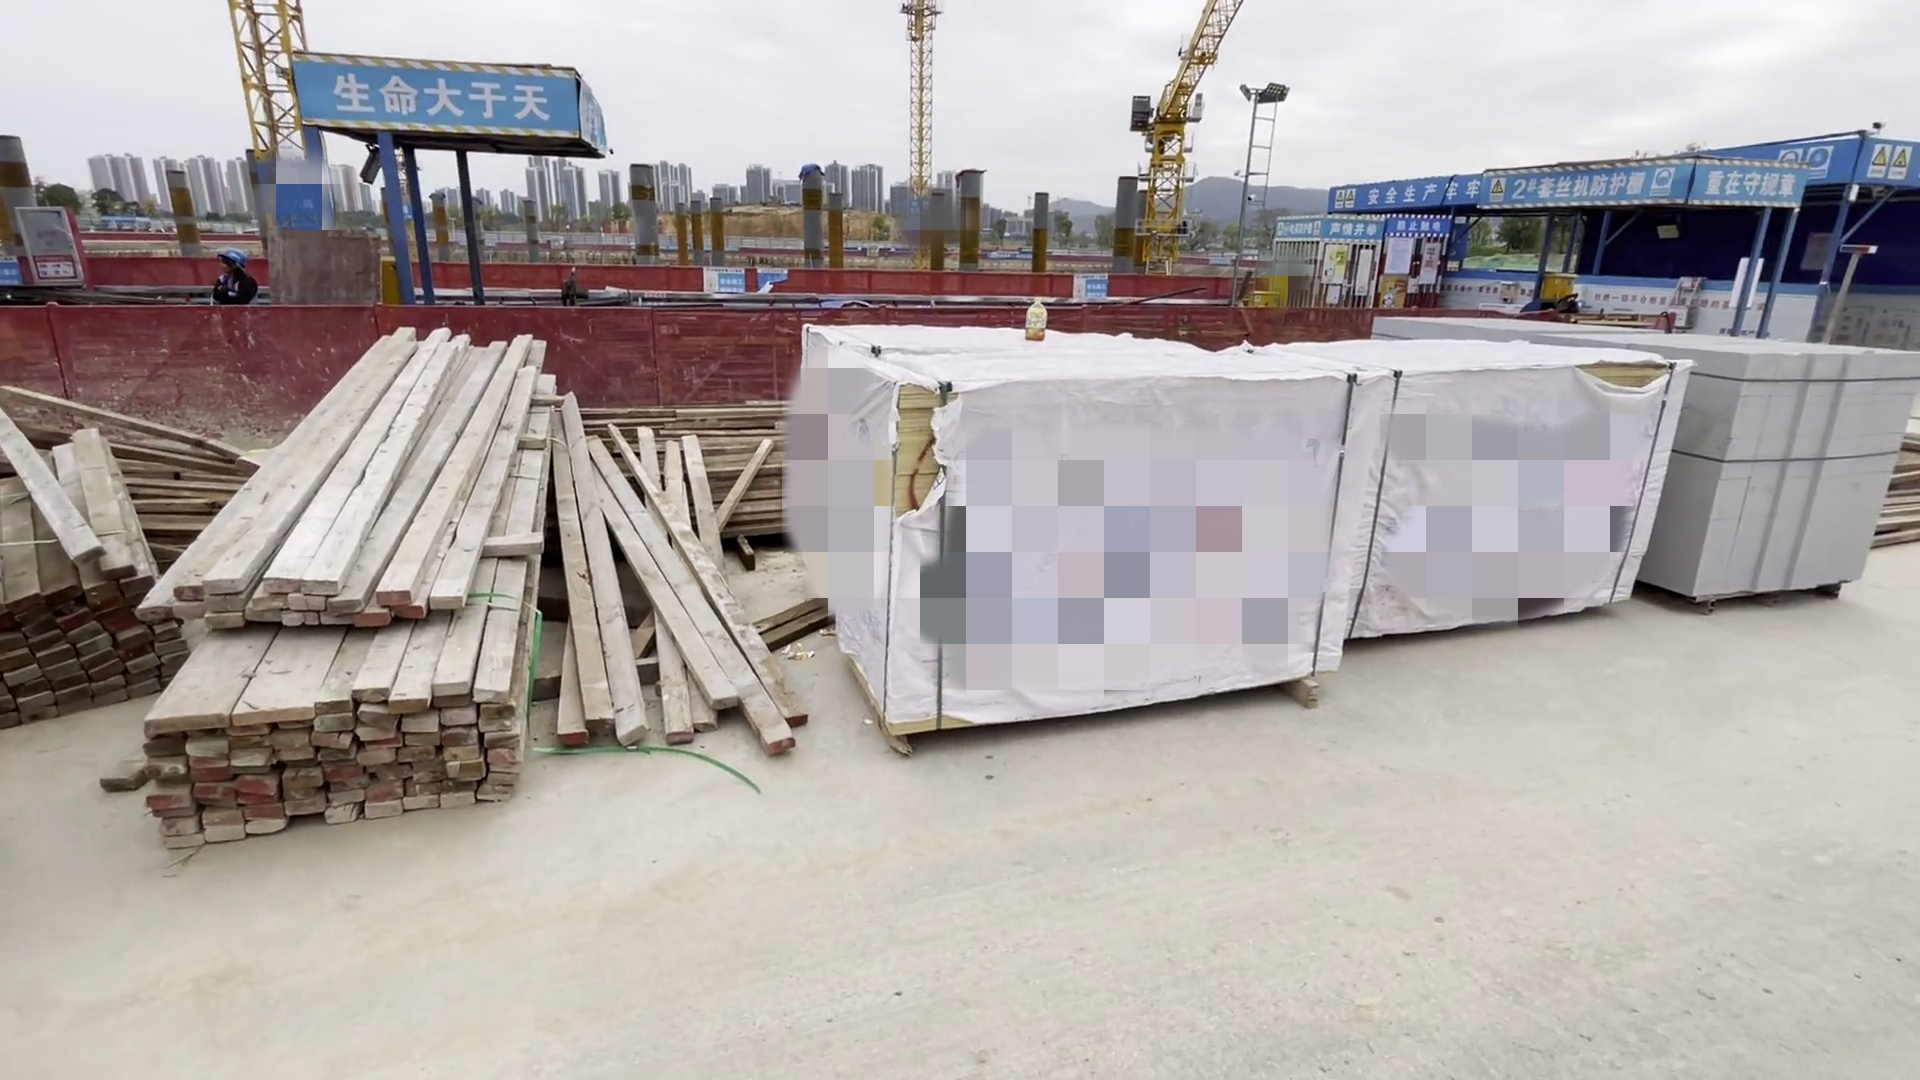brick: (1691, 344, 1920, 617)
slogan: (291, 55, 578, 152), (1328, 160, 1804, 214)
wood: (146, 338, 773, 837)
